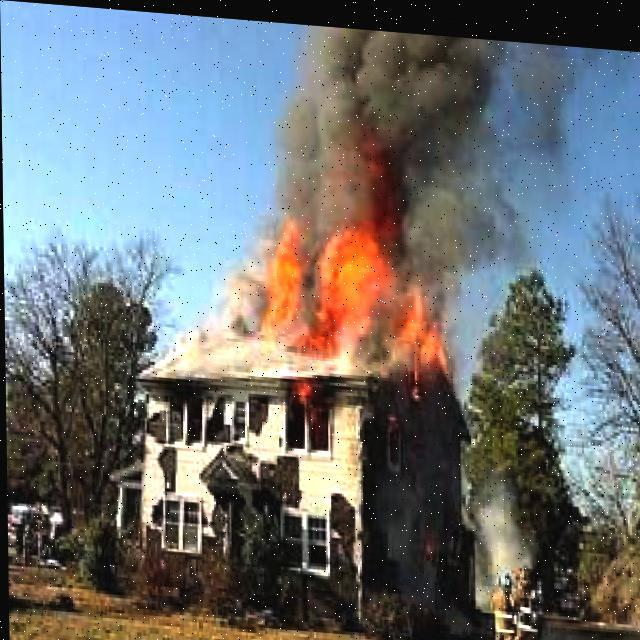Fire: (229, 74, 479, 464)
